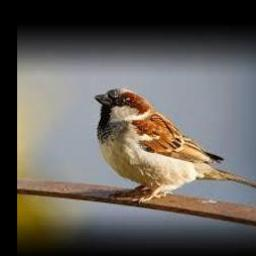Sparrow: (95, 88, 256, 202)
